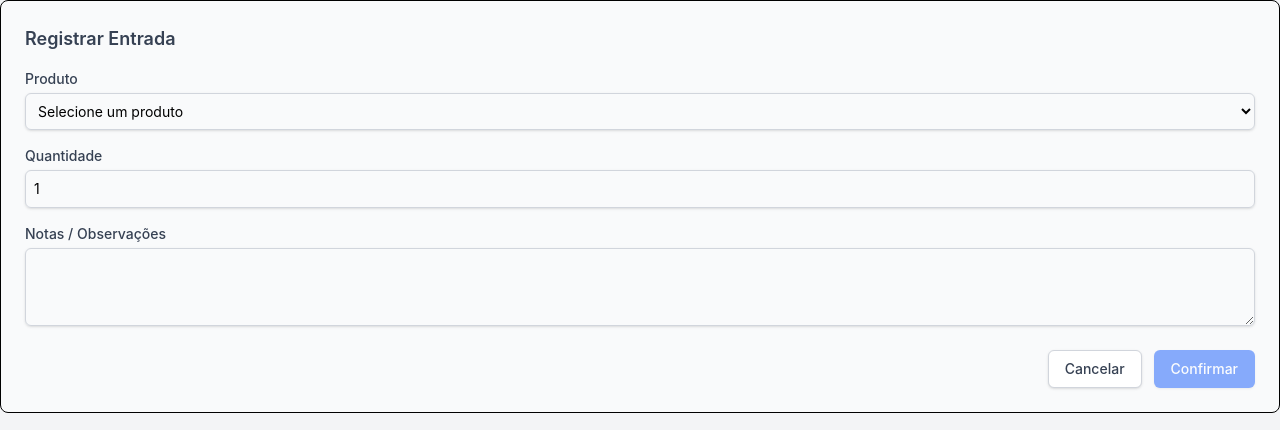
Test case: MovementForm.vue › disables submit button when form is invalid
Expected: the submit button is disabled, [1154,350,1255,388]
Note: Fill product_id
Select "Product 1 (SKU: SKU1) - Saldo: 10" in the dropdown at [640, 112], box [25,93,1255,130]
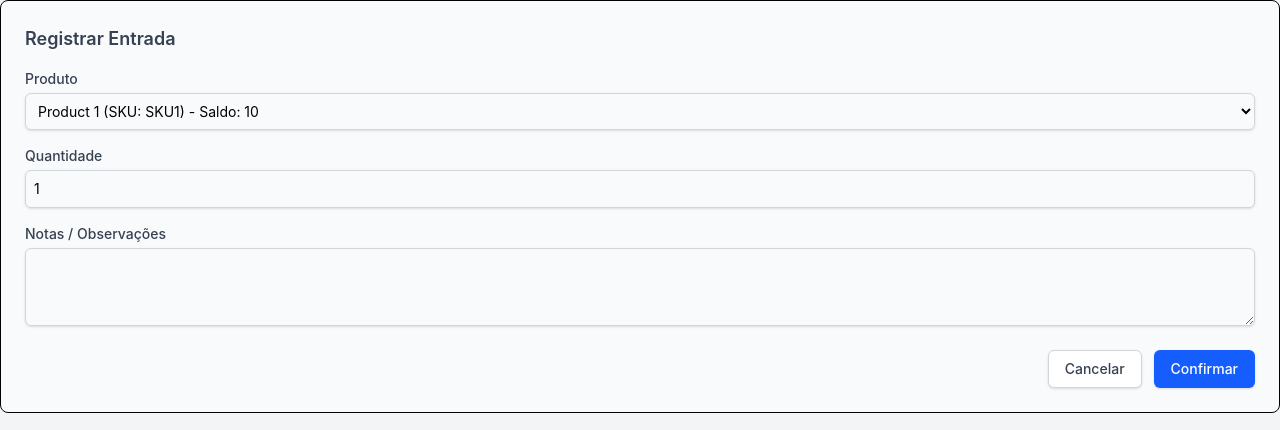
Result: the submit button is enabled at [1154,350,1255,388]
